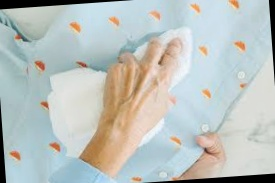oil: (137, 29, 160, 44), (120, 39, 139, 51)
